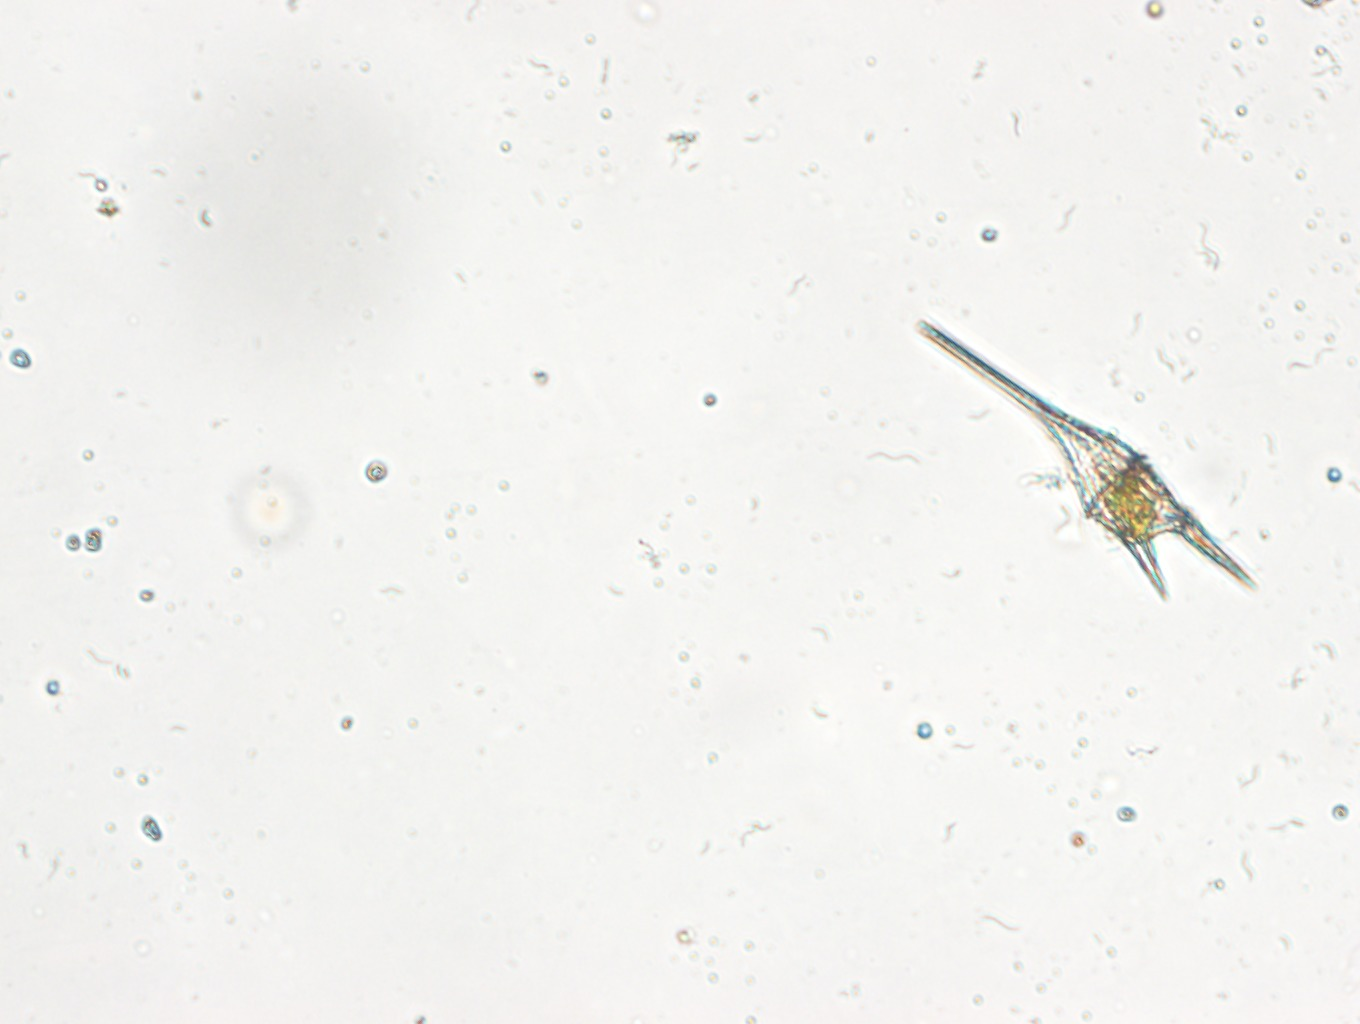ceratium furca: (916, 317, 1258, 599)
